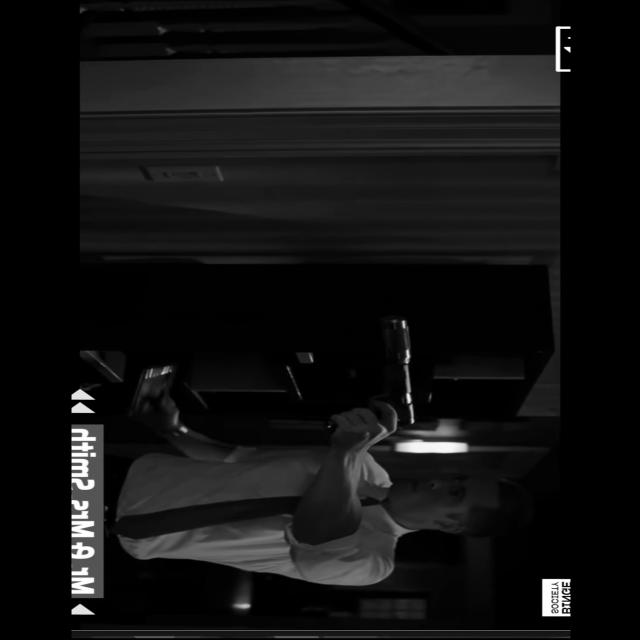weapons: (312, 312, 434, 448)
